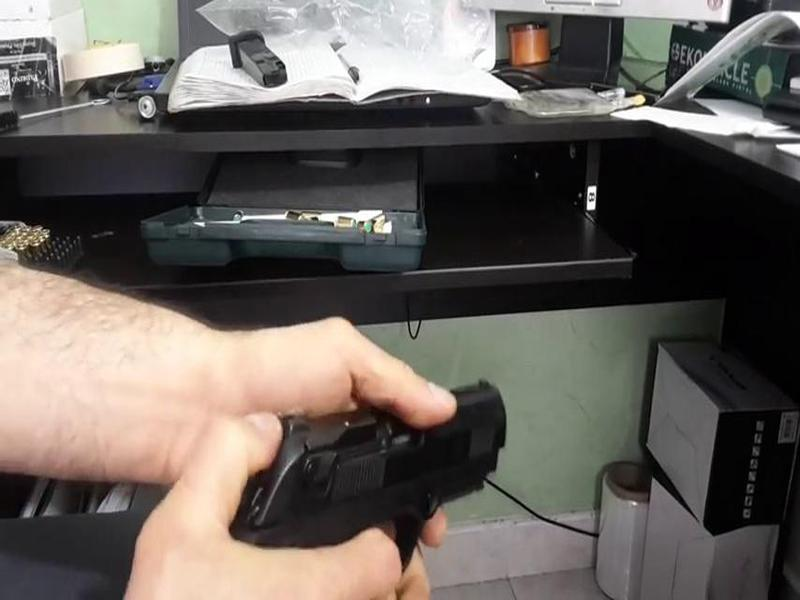Pistola: (229, 372, 523, 566)
